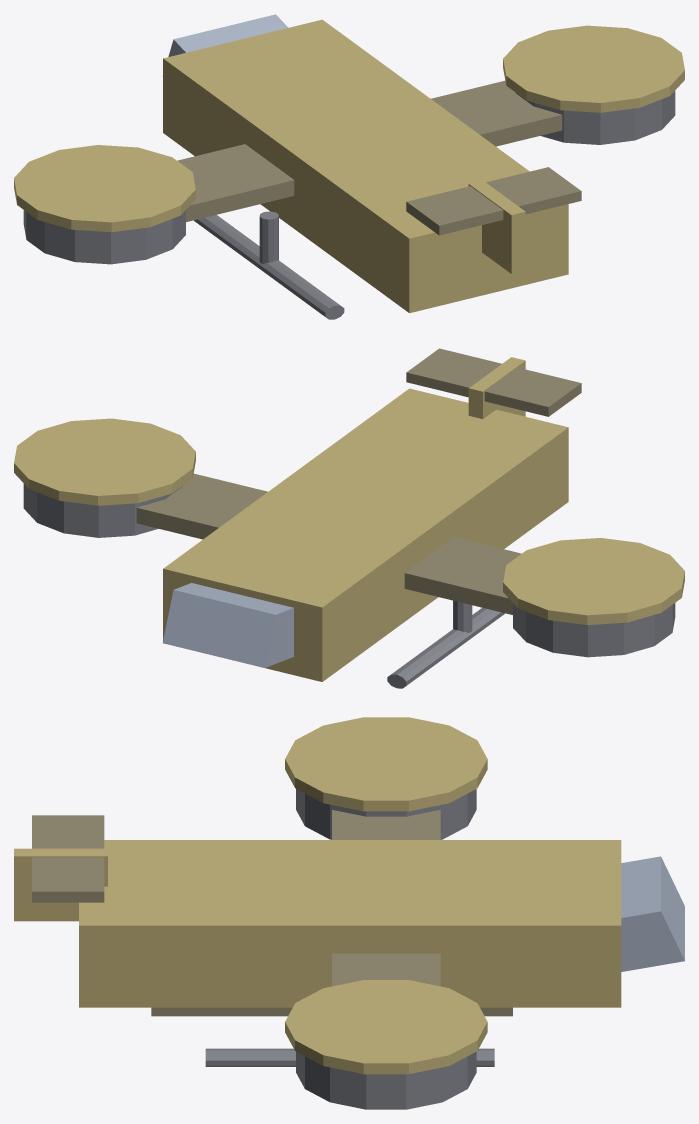
The model's file is dm_orca_bomber.glb.
3 views of the same model, one above another, from view 1: azimuth 30°, elevation 25°; view 2: azimuth 150°, elevation 25°; view 3: azimuth 270°, elevation 25° (orthographic). The views are drawn at different scales.
Visible parts, largest first — view 1: hull; view 2: hull; view 3: hull.
Boxes of the visible parts, x1,y1,x2,y2 form: hull: (14, 14, 684, 319); hull: (14, 348, 684, 688); hull: (14, 717, 684, 1109).
Size of the model in its own units: 1.45 by 0.3144 by 1.19.
